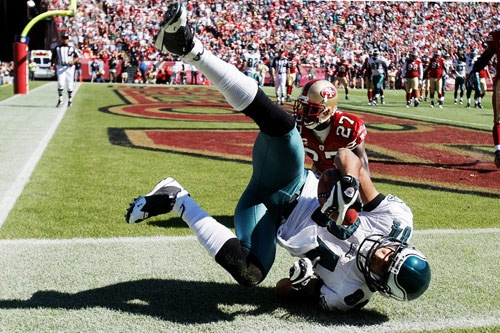falling: (117, 7, 390, 320)
